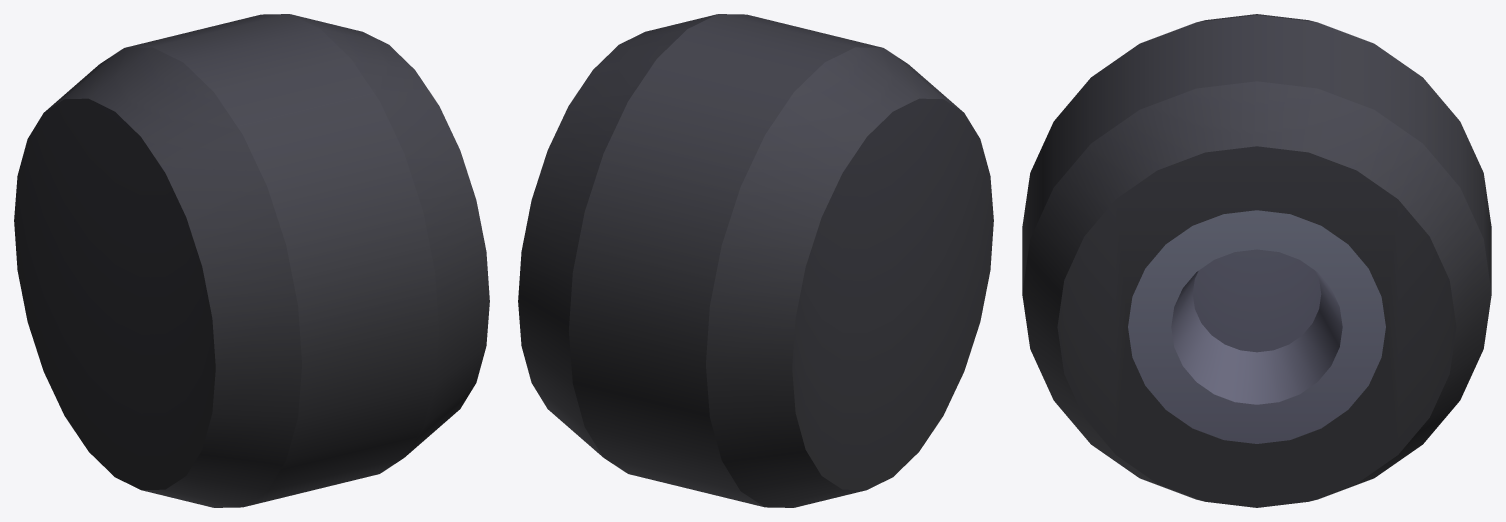
The model's file is wheel-dark.glb.
The picture shows the model from 3 angles, left to right: view 1: azimuth 30°, elevation 25°; view 2: azimuth 150°, elevation 25°; view 3: azimuth 270°, elevation 25°; orthographic projection.
Parts seen in each view (by area): view 1: wheel-dark; view 2: wheel-dark; view 3: wheel-dark.
Boxes of the visible parts, x1=… form: wheel-dark: x1=14, y1=14, x2=489, y2=507; wheel-dark: x1=518, y1=14, x2=993, y2=507; wheel-dark: x1=1022, y1=14, x2=1491, y2=507.
Size of the model in its own units: 0.4 by 0.6 by 0.6.
Materials: 1 (1 with a texture image).
